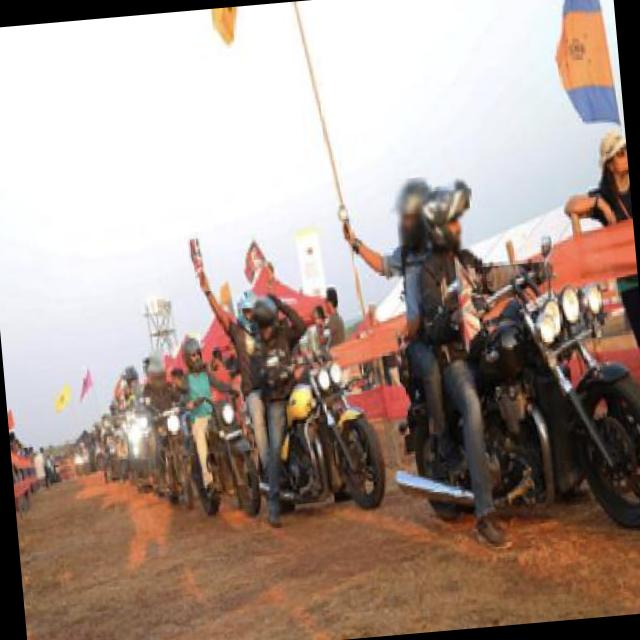With Helmet: (420, 178, 474, 258), (391, 176, 440, 247), (248, 288, 282, 350), (178, 334, 206, 376), (146, 348, 168, 393)
